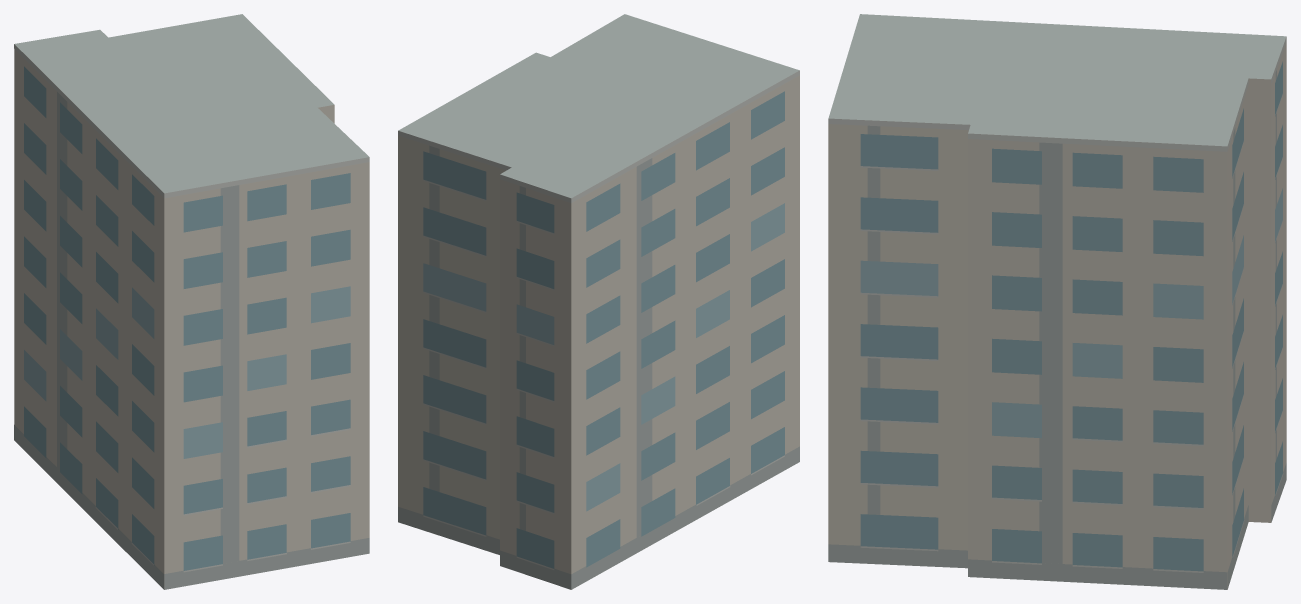
The model's file is survey-upis-32791726.glb.
3 renders of one model, left to right at view 1: azimuth 30°, elevation 25°; view 2: azimuth 150°, elevation 25°; view 3: azimuth 270°, elevation 25°, orthographic. The views are drawn at different scales.
Visible parts, largest first — view 1: survey-upis-32791726.tmp; view 2: survey-upis-32791726.tmp; view 3: survey-upis-32791726.tmp.
Boxes of the visible parts, x1,y1,x2,y2 form: survey-upis-32791726.tmp: [14, 14, 369, 589]; survey-upis-32791726.tmp: [398, 14, 799, 589]; survey-upis-32791726.tmp: [828, 14, 1286, 589].
Size of the model in its own units: 12.69 by 19.8 by 18.55.
